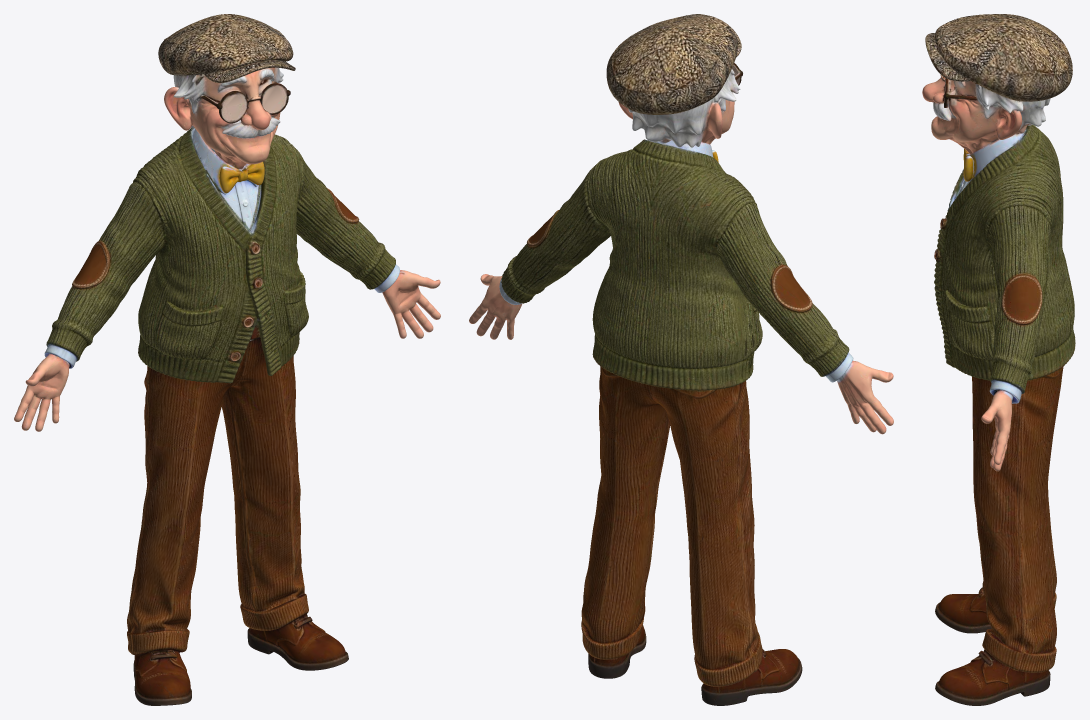
Rendered from uncle-elderly-man-light.glb.
The picture shows the model from 3 angles, left to right: view 1: azimuth 30°, elevation 25°; view 2: azimuth 150°, elevation 25°; view 3: azimuth 270°, elevation 25°; orthographic projection.
Parts seen in each view (by area): view 1: elderly-man; view 2: elderly-man; view 3: elderly-man.
Part boxes in pixels (bbox=[...]): elderly-man: bbox=[14, 14, 440, 705]; elderly-man: bbox=[469, 14, 893, 705]; elderly-man: bbox=[922, 14, 1075, 705].
Size of the model in its own units: 1.2 by 1.75 by 0.3804.
Materials: 1 (1 with a texture image).
